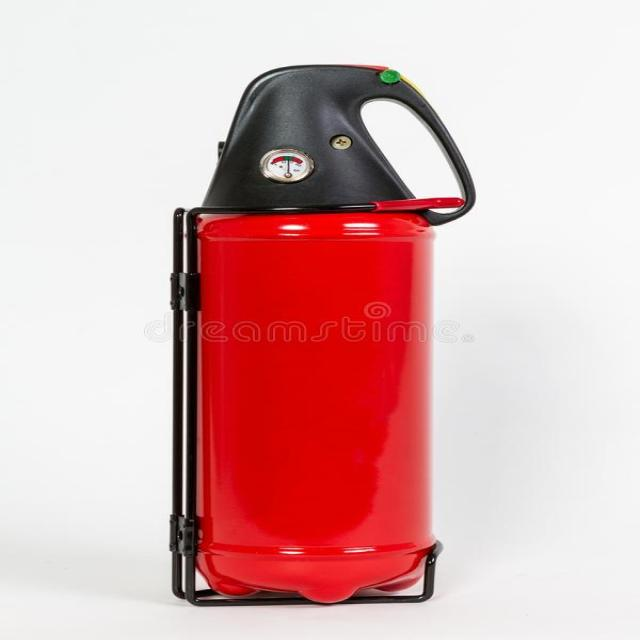fire_extinguisher: (167, 58, 486, 608)
